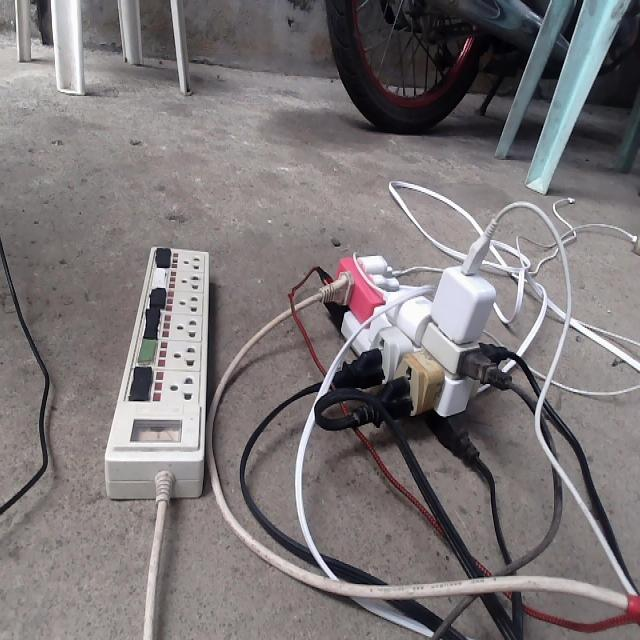-: (308, 245, 514, 428)
